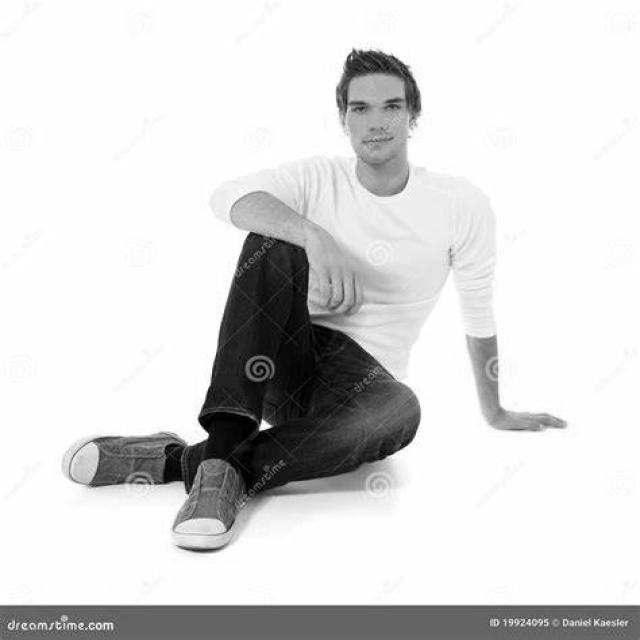sit: (117, 38, 455, 535)
